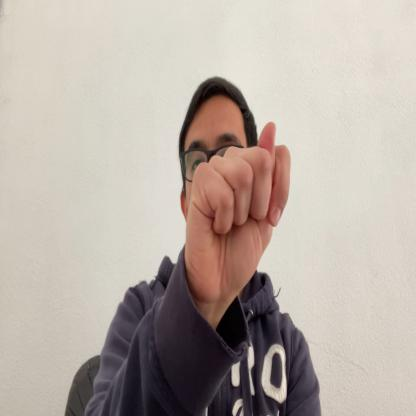T: (185, 121, 291, 294)
